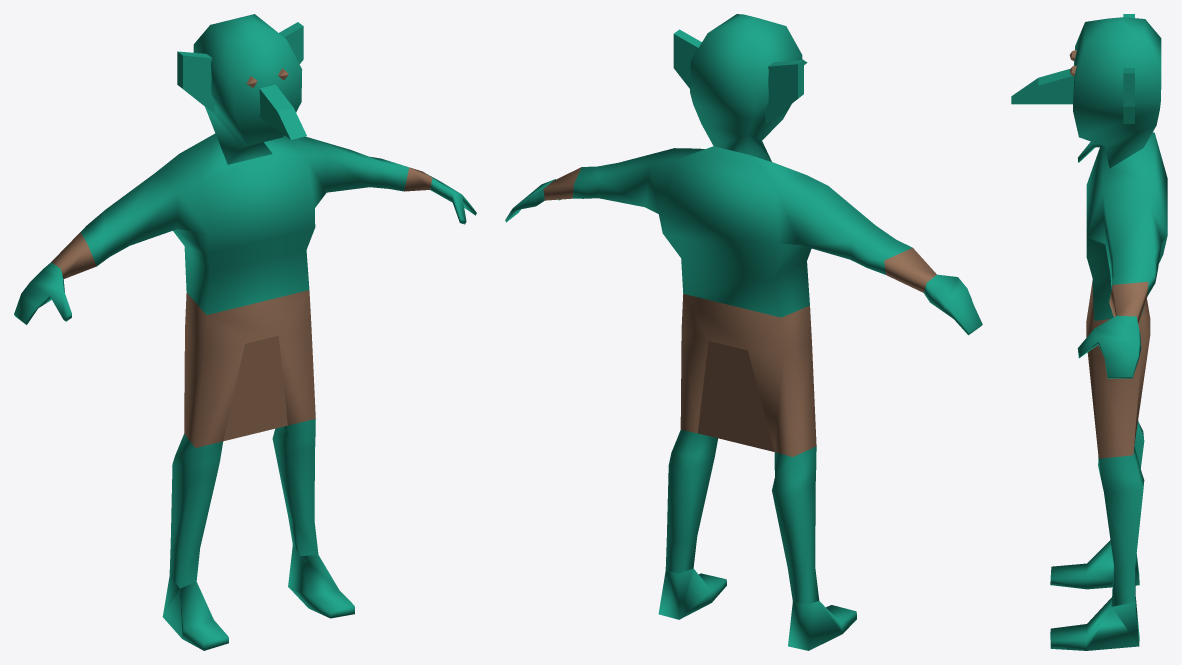
File: goblin.fbx
3 views of the same model, side by side, from view 1: azimuth 30°, elevation 25°; view 2: azimuth 150°, elevation 25°; view 3: azimuth 270°, elevation 25° (orthographic). The views are drawn at different scales.
Visible parts, largest first — view 1: goblin_mesh; view 2: goblin_mesh; view 3: goblin_mesh.
Part boxes in pixels (box(x1,y1,x2,y2)): goblin_mesh: box(14, 14, 476, 650); goblin_mesh: box(505, 14, 982, 650); goblin_mesh: box(1011, 14, 1167, 650).
Bounding box in the file's own units: 98.2 × 122 × 29.23.
